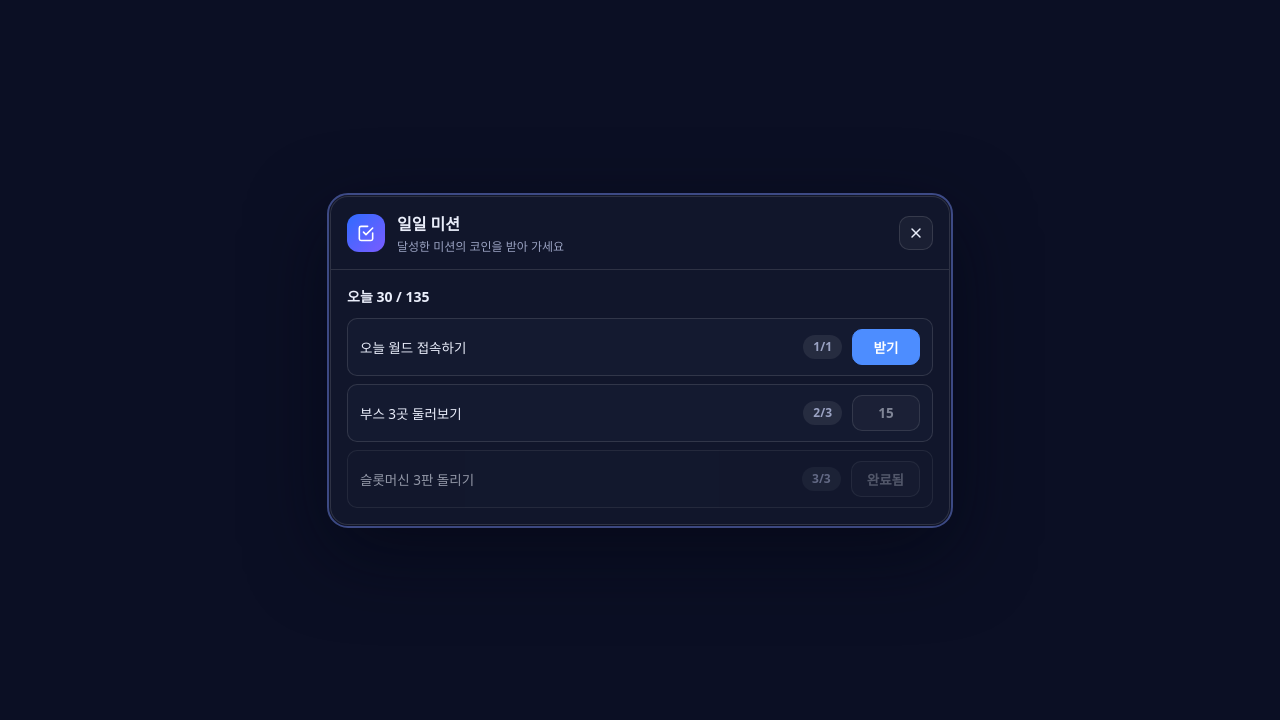
Test: 수령 › DAILY_CAP_REACHED 는 문장으로 알린다 — 재조회해도 상태가 그대로라 침묵하면 원인을 알 수 없다
Click the button "받기" at (886, 346), box [852,328,920,364]
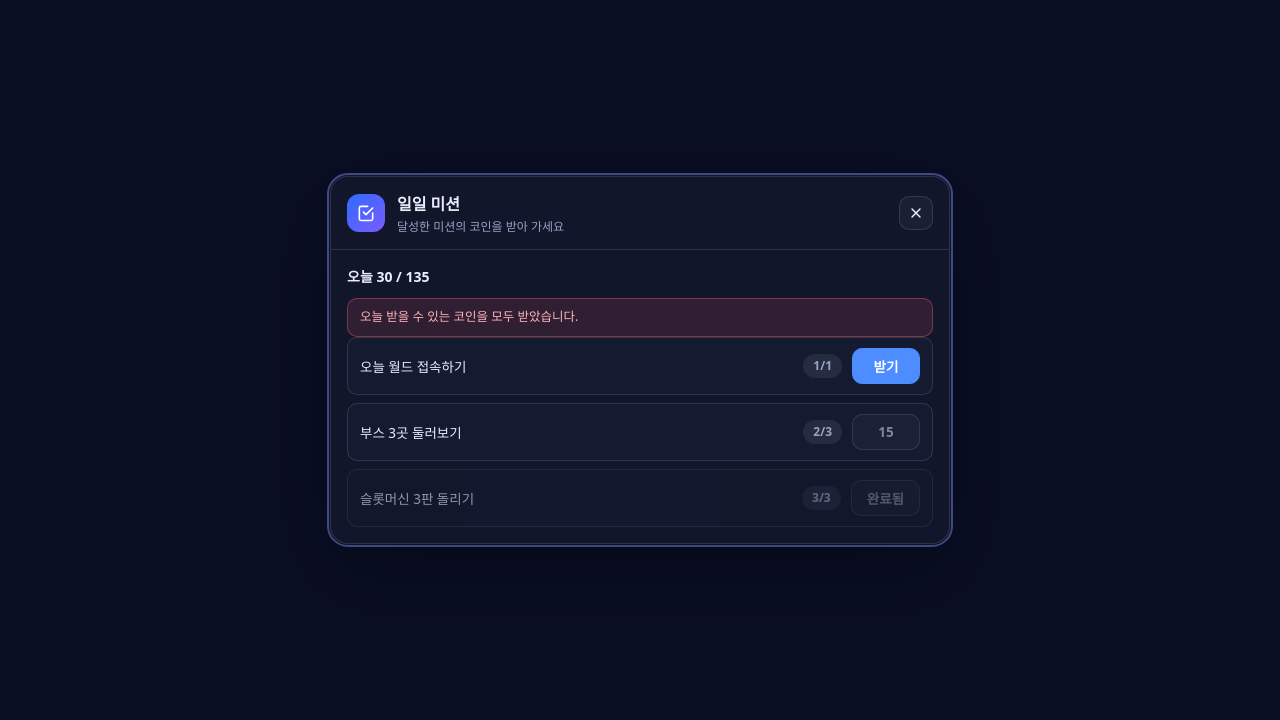
Check: the message shows "오늘 받을 수 있는 코인을 모두 받았습니다", box [360,308,578,325]
